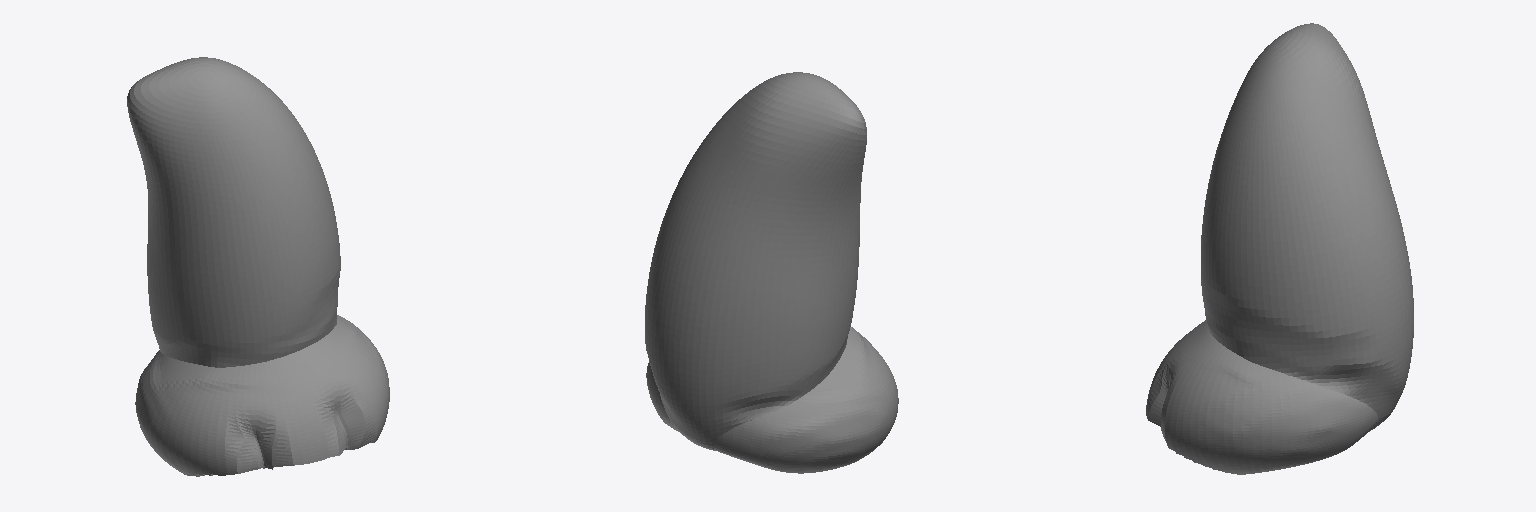
File: DPIz.obj
3 renders of one model, left to right at view 1: azimuth 30°, elevation 25°; view 2: azimuth 150°, elevation 25°; view 3: azimuth 270°, elevation 25°, orthographic.
Visible parts, largest first — view 1: PIz; view 2: PIz; view 3: PIz.
Boxes of the visible parts, box(x1,y1,x2,y2) form: PIz: box(127, 57, 389, 476); PIz: box(645, 72, 898, 473); PIz: box(1146, 23, 1413, 474).
Bounding box in the file's own units: 1.28 × 2.19 × 1.35.